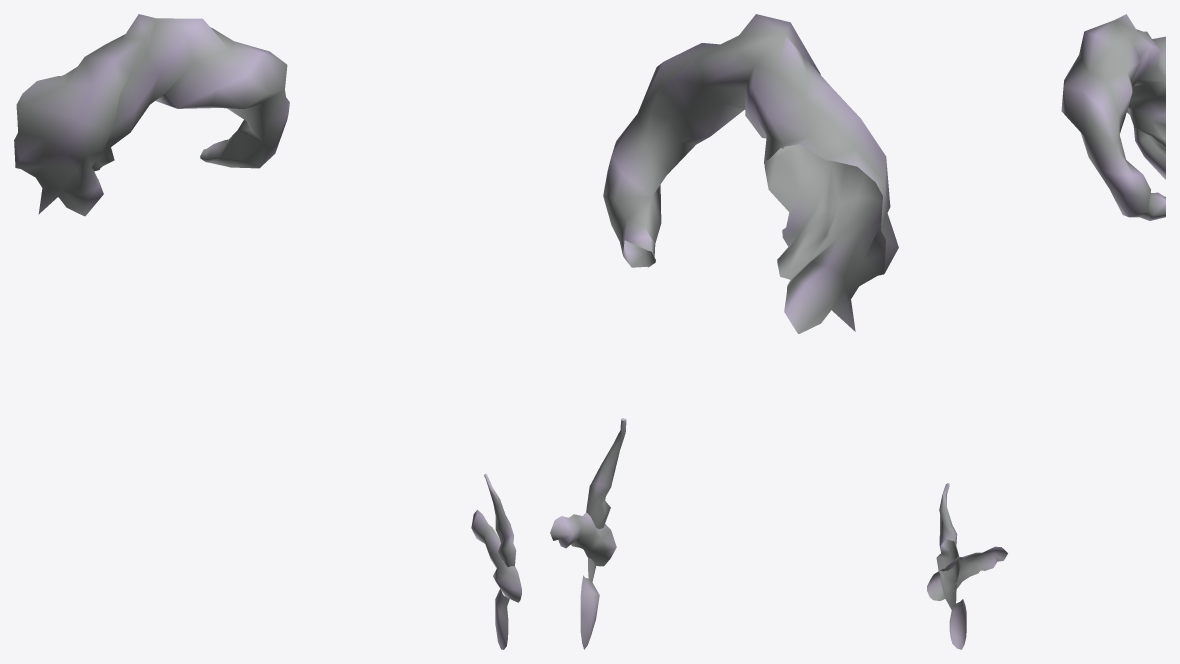
The picture shows the model from 3 angles, left to right: view 1: azimuth 30°, elevation 25°; view 2: azimuth 150°, elevation 25°; view 3: azimuth 270°, elevation 25°; orthographic projection. The views are drawn at different scales.
Parts seen in each view (by area): view 1: G:\FFXIV-MapTools\exports\a2f2\bg\ex1\03_abr_a2\fld\a2f2\bgp; view 2: G:\FFXIV-MapTools\exports\a2f2\bg\ex1\03_abr_a2\fld\a2f2\bgp; view 3: G:\FFXIV-MapTools\exports\a2f2\bg\ex1\03_abr_a2\fld\a2f2\bgp.
Boxes of the visible parts, x1,y1,x2,y2 form: G:\FFXIV-MapTools\exports\a2f2\bg\ex1\03_abr_a2\fld\a2f2\bgp: (14, 14, 521, 649); G:\FFXIV-MapTools\exports\a2f2\bg\ex1\03_abr_a2\fld\a2f2\bgp: (550, 14, 898, 649); G:\FFXIV-MapTools\exports\a2f2\bg\ex1\03_abr_a2\fld\a2f2\bgp: (927, 14, 1165, 649).
Size of the model in its own units: 91.75 by 150 by 61.5.
